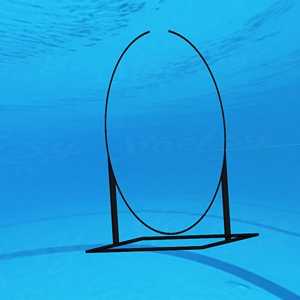circle: (85, 27, 258, 255)
